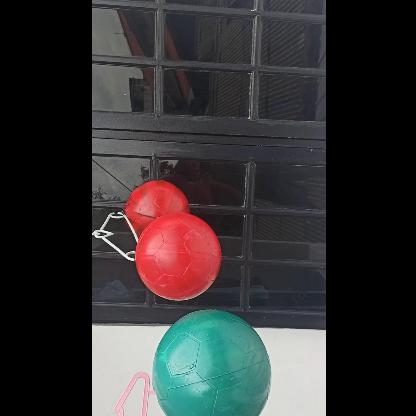red_ball: (134, 212, 219, 298)
